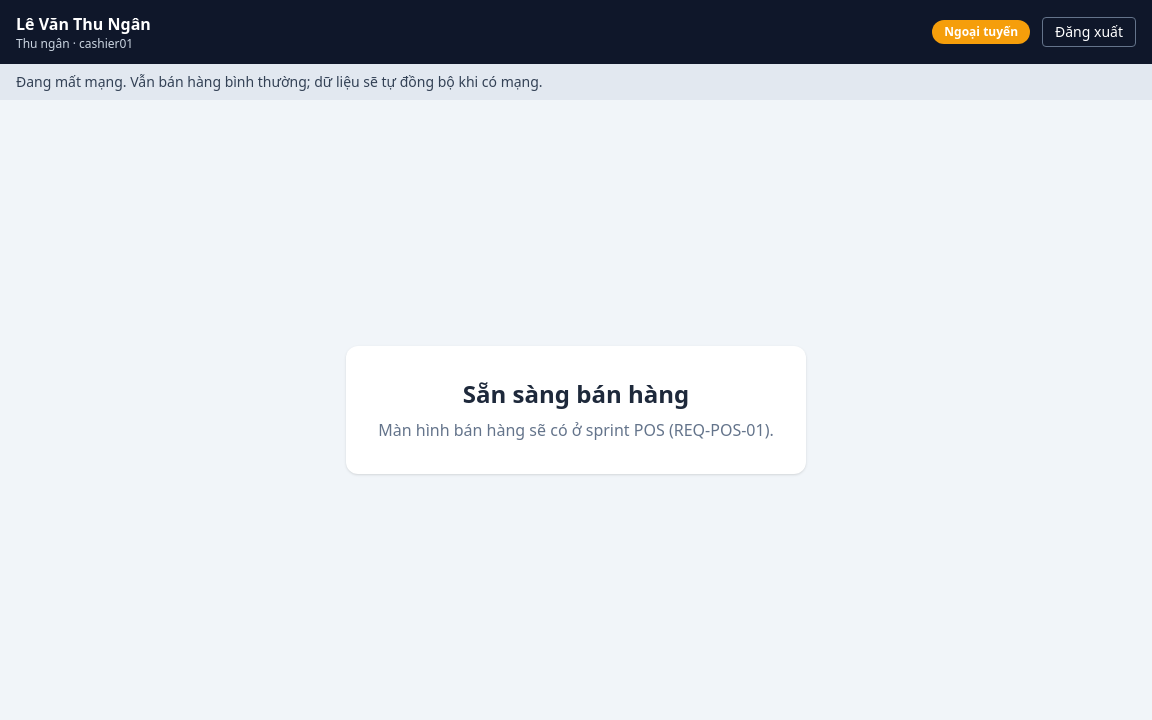
Test: POS screens › REQ-POS-05: logging out while offline warns "Không thể đăng nhập lại khi mất mạng"; Hủy keeps the session
Click the button "Đăng xuất" at (1089, 32), box x1=1042 y1=17 x2=1136 y2=47
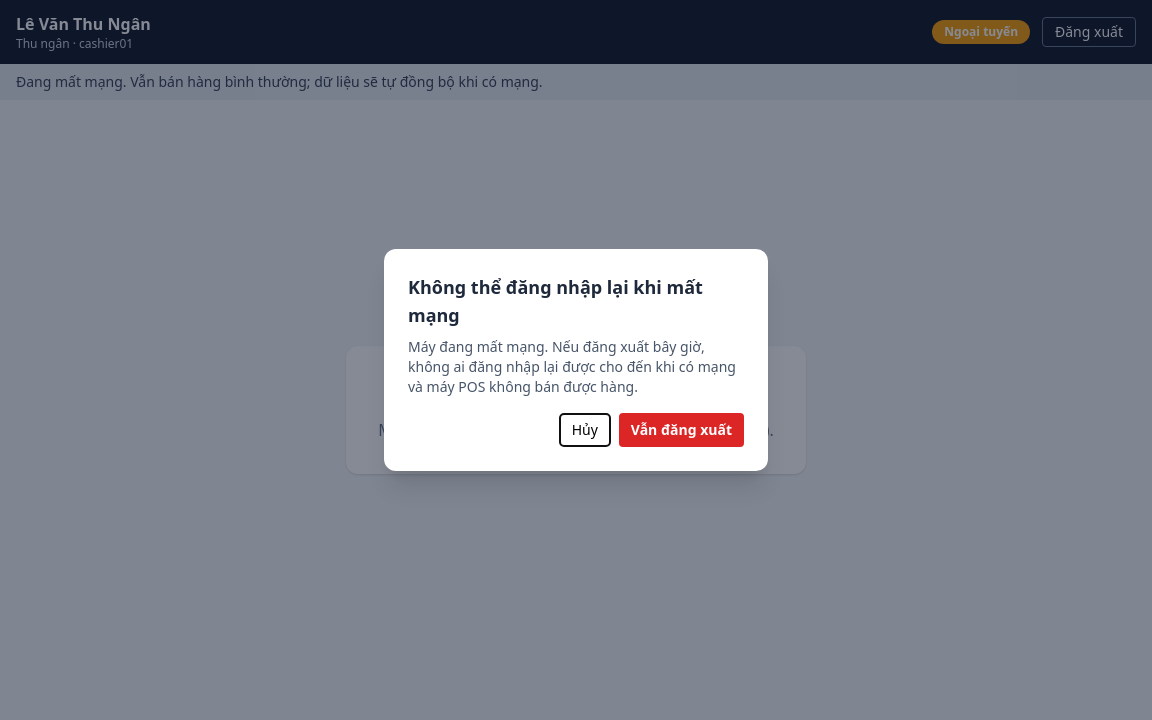
Expected: the dialog shows "Không thể đăng nhập lại khi mất mạng", x1=408 y1=275 x2=703 y2=327
Click the button "Hủy" at (585, 430), box x1=559 y1=413 x2=611 y2=447
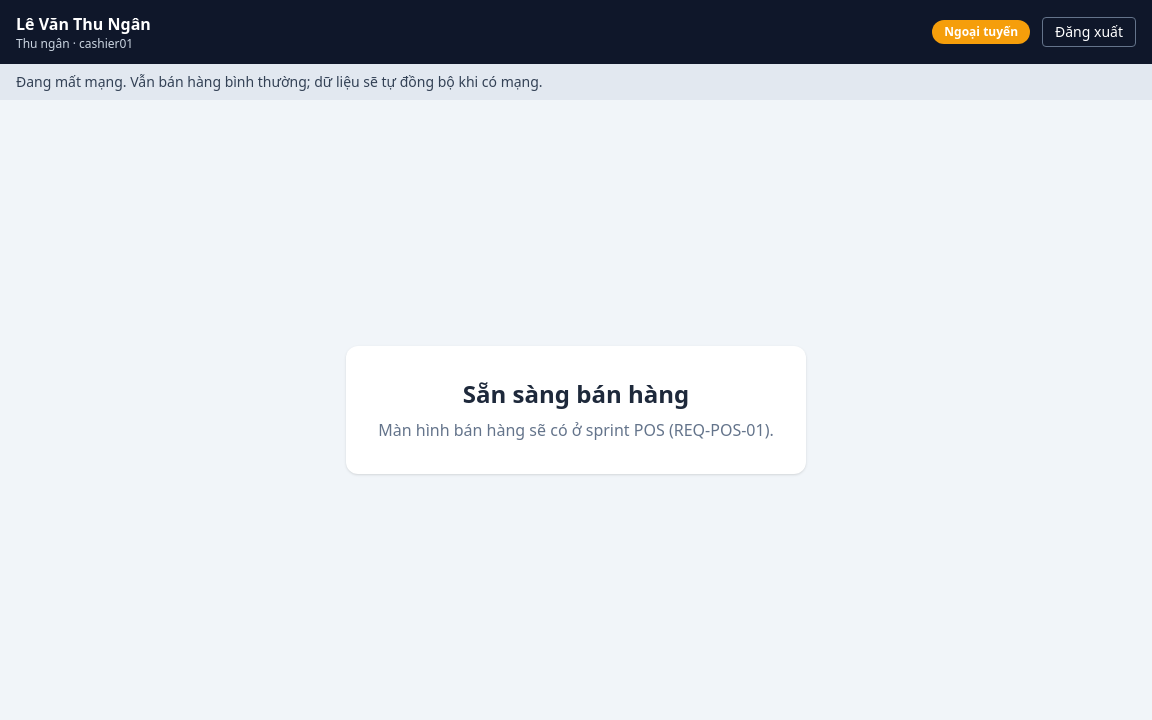
Expected: the dialog is gone
